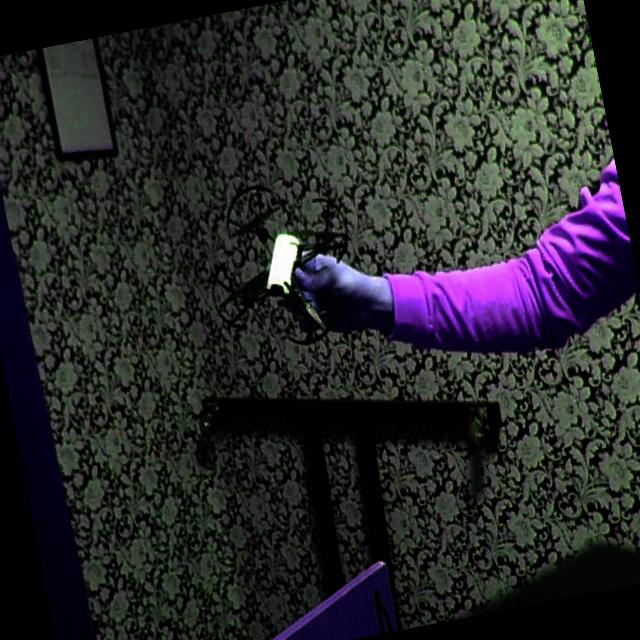drone: (182, 154, 376, 375)
